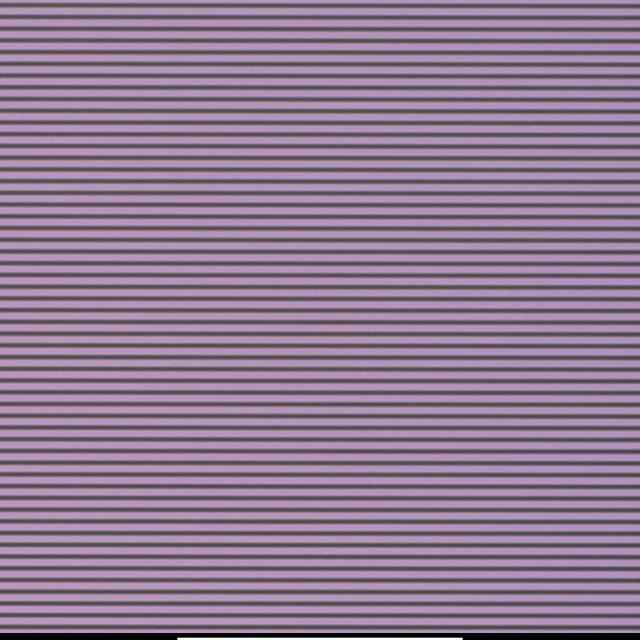03_intrusion: (337, 316, 345, 325)
